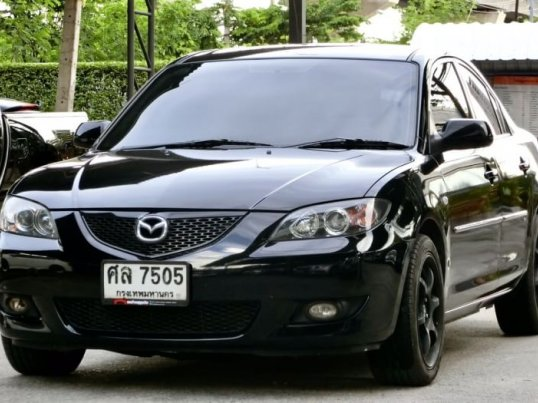sedan: (5, 45, 538, 381)
